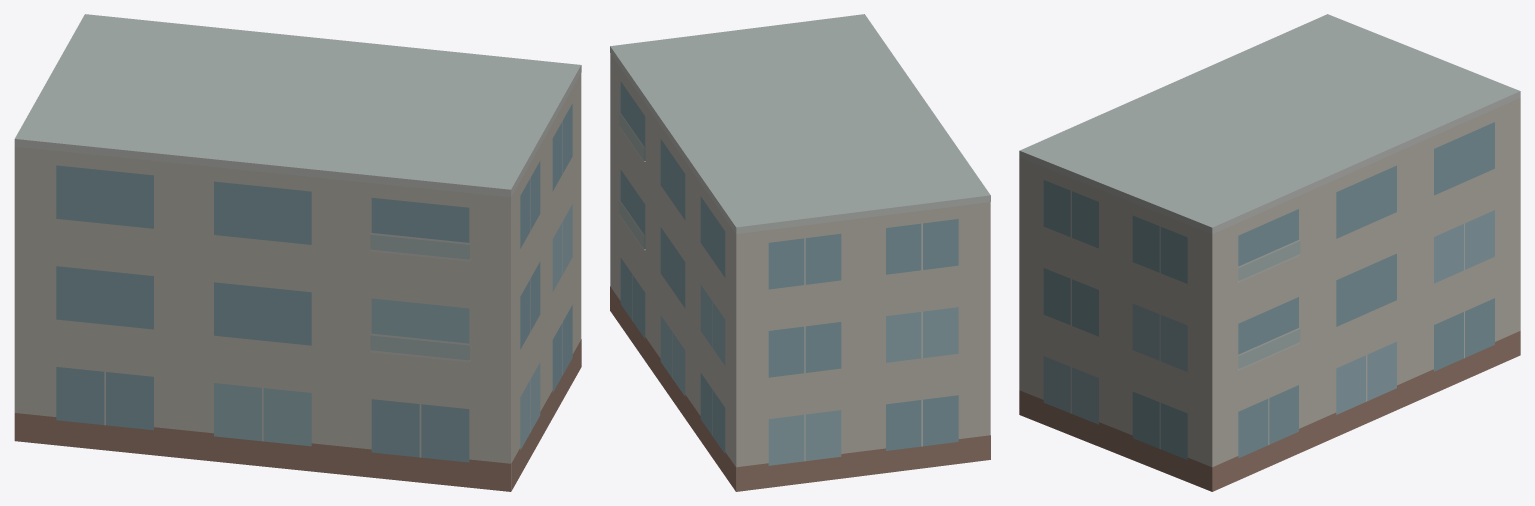
The model's file is survey-upis-32711263.glb.
3 views of the same model, side by side, from view 1: azimuth 30°, elevation 25°; view 2: azimuth 150°, elevation 25°; view 3: azimuth 270°, elevation 25° (orthographic). The views are drawn at different scales.
Parts seen in each view (by area): view 1: survey-upis-32711263.tmp; view 2: survey-upis-32711263.tmp; view 3: survey-upis-32711263.tmp.
Part boxes in pixels (x1,y1,x2,y2): survey-upis-32711263.tmp: (14, 14, 581, 491); survey-upis-32711263.tmp: (610, 14, 990, 491); survey-upis-32711263.tmp: (1019, 14, 1520, 491).
Bounding box in the file's own units: 16.83 × 9.7 × 16.68.
